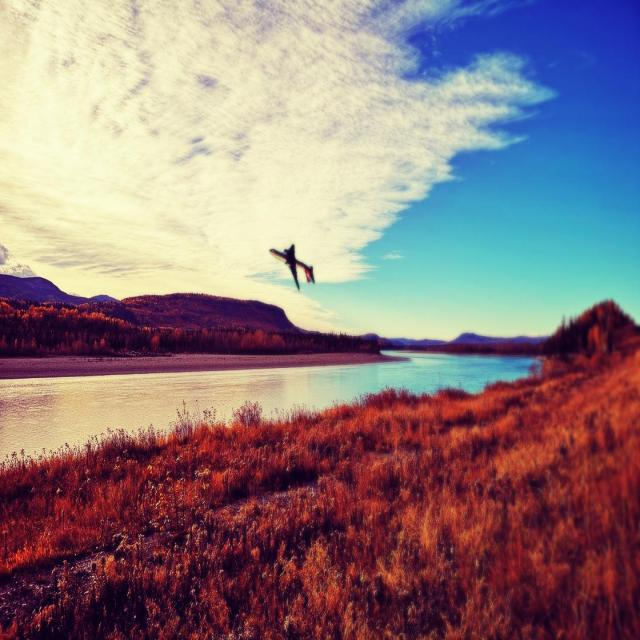airplane: (268, 244, 314, 291)
